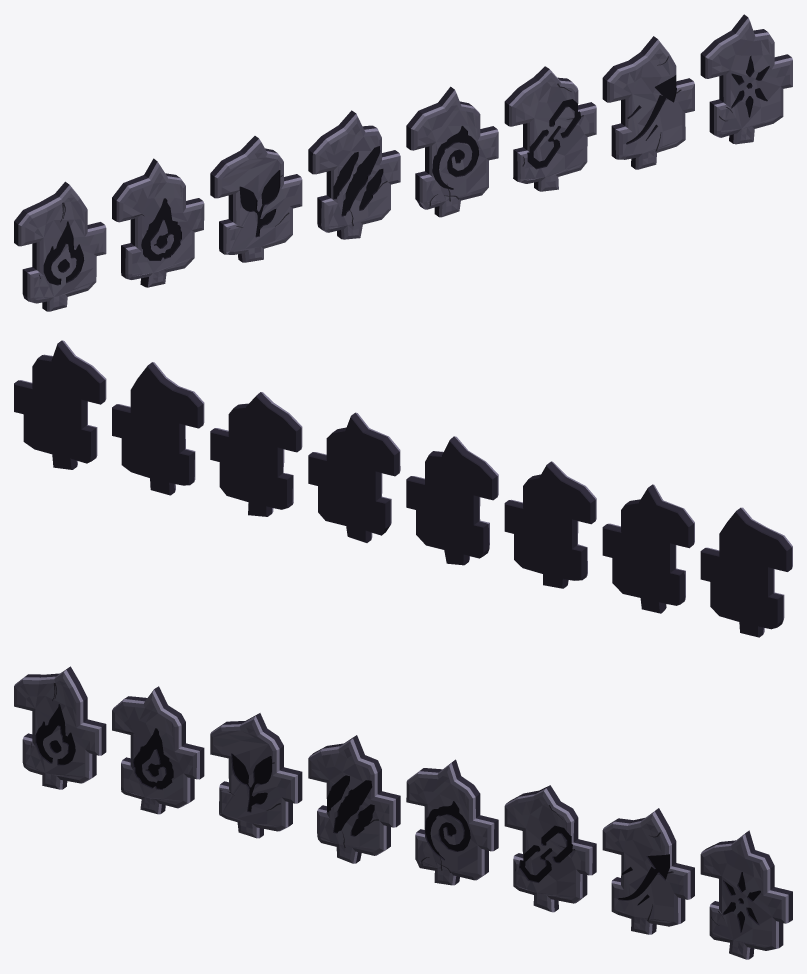
File: runas_v3.glb
3 renders of one model, top to bottom at view 1: azimuth 30°, elevation 25°; view 2: azimuth 150°, elevation 25°; view 3: azimuth 330°, elevation 25°, orthographic.
Visible parts, largest first — view 1: Runa_arremesso_apagada, Runa_quebrar_apagada, Runa_fogo_apagada, Runa_feroz_apagada, Runa_gravitacao_apagada, Runa_prende_apagada, Runa_agua_apagada, Runa_vida_apagada; view 2: Runa_arremesso_apagada, Runa_fogo_apagada, Runa_quebrar_apagada, Runa_gravitacao_apagada, Runa_feroz_apagada, Runa_agua_apagada, Runa_prende_apagada, Runa_vida_apagada; view 3: Runa_arremesso_apagada, Runa_prende_apagada, Runa_quebrar_apagada, Runa_fogo_apagada, Runa_gravitacao_apagada, Runa_agua_apagada, Runa_feroz_apagada, Runa_vida_apagada.
Part boxes in pixels (<box>): Runa_arremesso_apagada: <box>602,36,694,169</box>; Runa_quebrar_apagada: <box>700,14,792,144</box>; Runa_fogo_apagada: <box>14,181,106,311</box>; Runa_feroz_apagada: <box>308,110,400,239</box>; Runa_gravitacao_apagada: <box>406,86,498,217</box>; Runa_prende_apagada: <box>504,66,596,191</box>; Runa_agua_apagada: <box>112,158,204,287</box>; Runa_vida_apagada: <box>210,136,302,262</box>; Runa_arremesso_apagada: <box>112,362,204,495</box>; Runa_fogo_apagada: <box>700,507,792,637</box>; Runa_quebrar_apagada: <box>14,340,106,469</box>; Runa_gravitacao_apagada: <box>308,412,400,542</box>; Runa_feroz_apagada: <box>406,436,498,565</box>; Runa_agua_apagada: <box>602,484,694,613</box>; Runa_prende_apagada: <box>210,392,302,516</box>; Runa_vida_apagada: <box>504,461,596,588</box>; Runa_arremesso_apagada: <box>602,808,694,934</box>; Runa_prende_apagada: <box>504,785,596,912</box>; Runa_quebrar_apagada: <box>700,830,792,959</box>; Runa_fogo_apagada: <box>14,666,106,789</box>; Runa_gravitacao_apagada: <box>406,759,498,885</box>; Runa_agua_apagada: <box>112,686,204,814</box>; Runa_feroz_apagada: <box>308,735,400,863</box>; Runa_vida_apagada: <box>210,713,302,838</box>.
Size of the model in its own units: 3.15 by 0.4891 by 0.0524.
